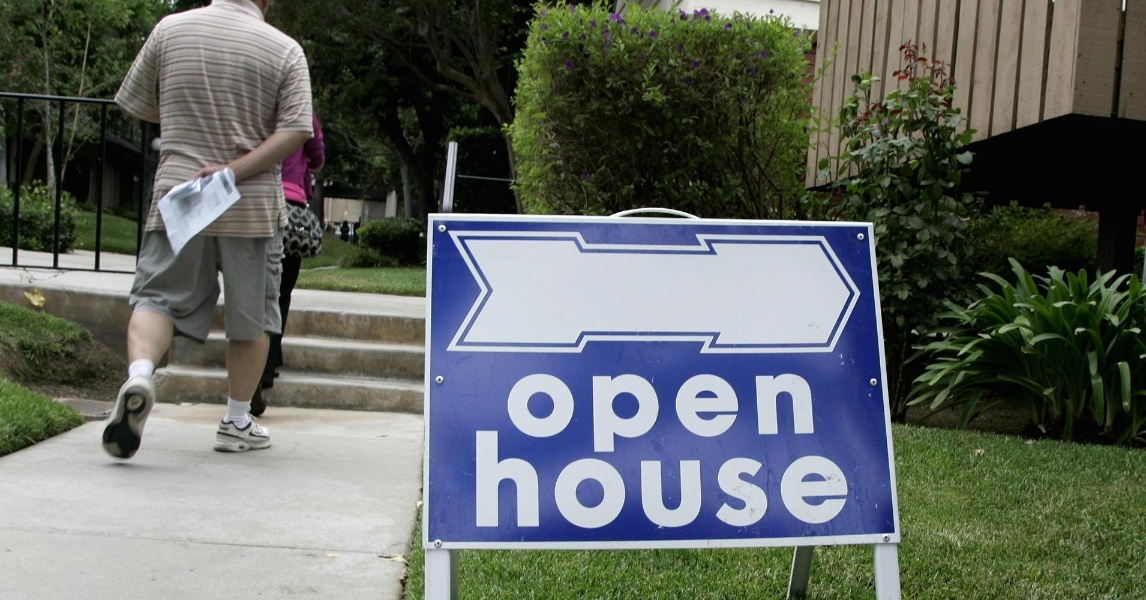text: (481, 430, 496, 530), (497, 430, 512, 530), (513, 430, 528, 530), (529, 430, 544, 530), (545, 430, 560, 530), (561, 430, 576, 530), (577, 430, 592, 530), (593, 430, 608, 530), (609, 430, 624, 530), (625, 430, 640, 530), (641, 430, 656, 530), (657, 430, 672, 530), (673, 430, 688, 530), (689, 430, 704, 530), (705, 430, 720, 530), (721, 430, 736, 530), (737, 430, 752, 530), (753, 430, 768, 530), (769, 430, 784, 530), (785, 430, 800, 530), (801, 430, 816, 530), (817, 430, 832, 530), (833, 430, 848, 530), (801, 373, 817, 453), (513, 373, 528, 453), (529, 373, 544, 453), (545, 373, 560, 453), (561, 373, 576, 453), (577, 373, 592, 453), (593, 373, 608, 453), (609, 373, 624, 453), (625, 373, 640, 453), (641, 373, 656, 453), (657, 373, 672, 453), (673, 373, 688, 453), (689, 373, 704, 453), (705, 373, 720, 453), (721, 373, 736, 453), (737, 373, 752, 453), (753, 373, 768, 453), (769, 373, 784, 453), (785, 373, 800, 453), (849, 430, 860, 530), (503, 373, 512, 453), (475, 430, 480, 530)
